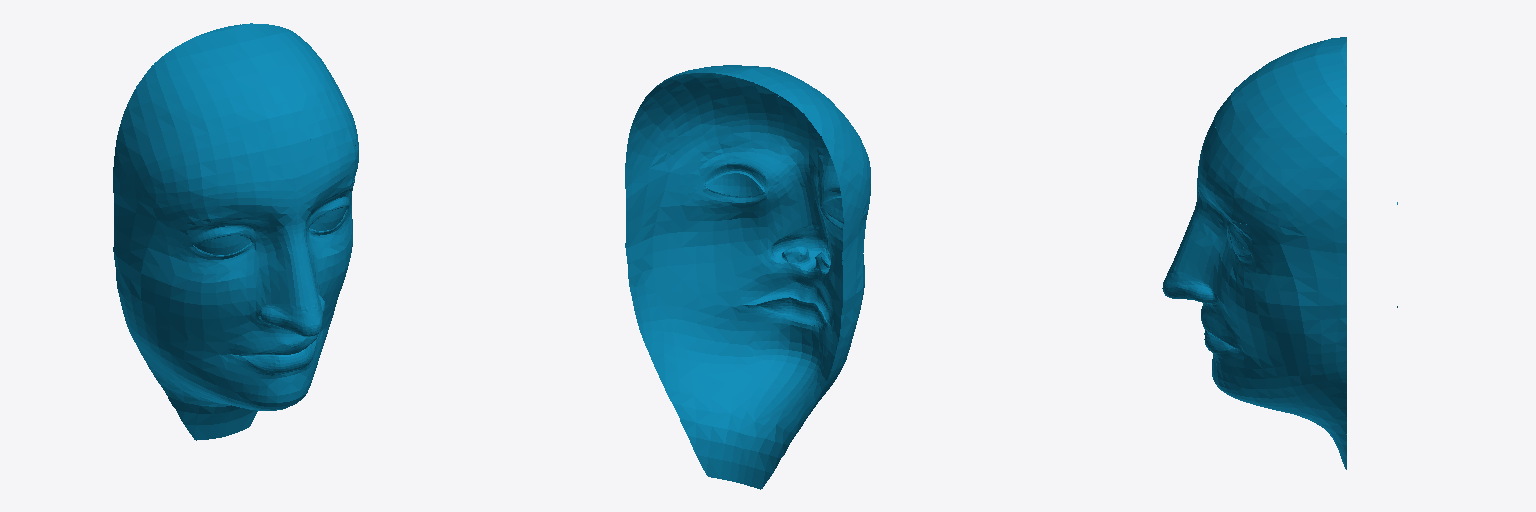
Rendered from head4.obj.
3 views of the same model, side by side, from view 1: azimuth 30°, elevation 25°; view 2: azimuth 150°, elevation 25°; view 3: azimuth 270°, elevation 25° (orthographic).
Parts seen in each view (by area): view 1: Mesh1 Model; view 2: Mesh1 Model; view 3: Mesh1 Model.
Boxes of the visible parts, x1,y1,x2,y2 form: Mesh1 Model: [113, 23, 358, 440]; Mesh1 Model: [625, 65, 870, 489]; Mesh1 Model: [1162, 37, 1346, 469].
Size of the model in its own units: 80.7 by 144 by 75.22.